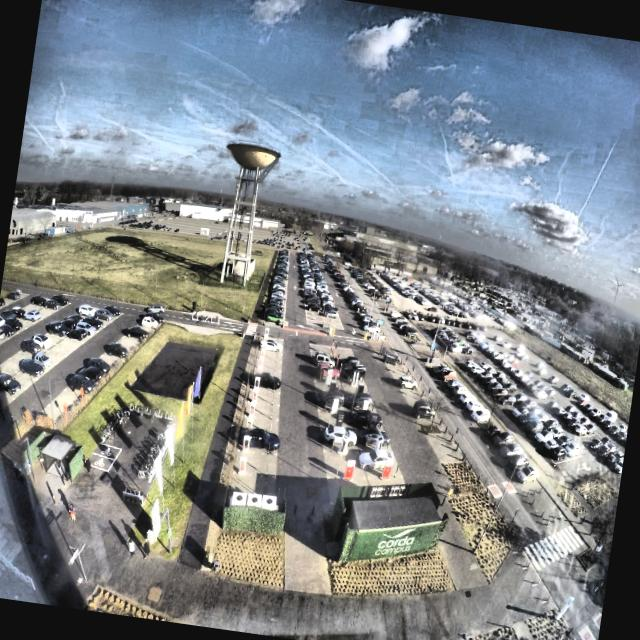cabinet: (233, 490, 276, 508)
car: (235, 425, 280, 451), (248, 368, 282, 388), (260, 336, 284, 352)
parking: (235, 450, 278, 478), (231, 472, 276, 497), (239, 432, 279, 454), (242, 415, 280, 436), (246, 399, 280, 418), (248, 387, 280, 403), (255, 356, 282, 372), (250, 376, 280, 389), (252, 368, 280, 380), (258, 344, 282, 358), (260, 336, 284, 346)
